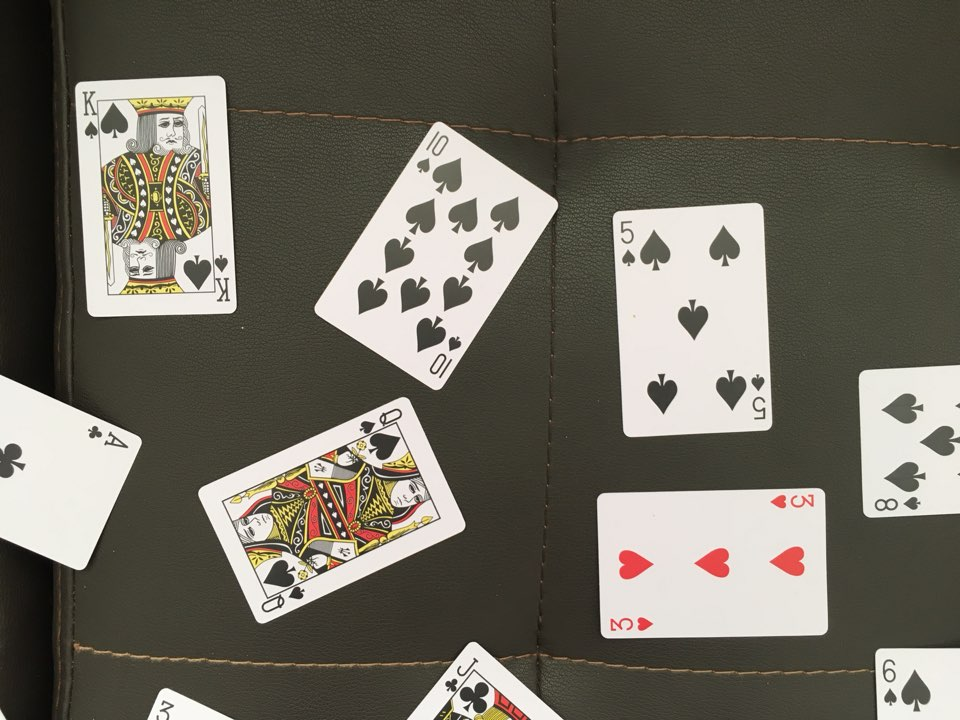ace: (1, 361, 152, 581)
jack: (379, 632, 575, 720)
king: (71, 69, 253, 327)
queen: (194, 393, 472, 628)
ten: (311, 118, 567, 397)
